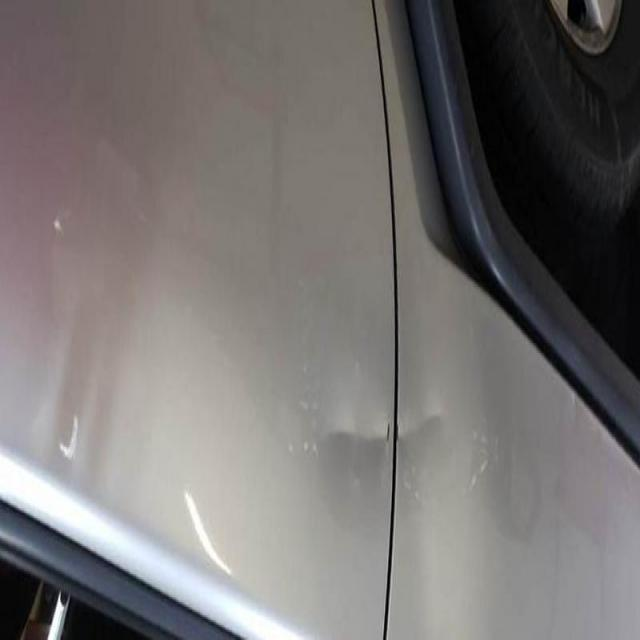dent: (298, 380, 450, 510)
